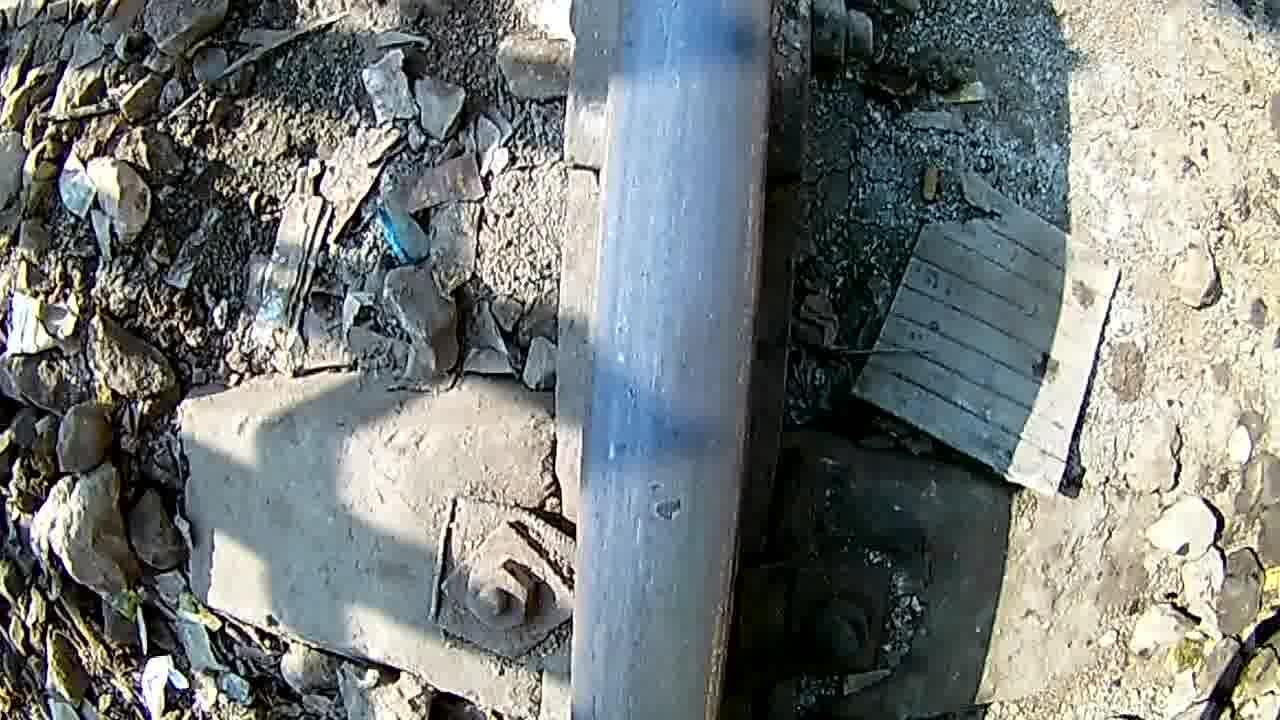crack: (600, 396, 741, 607)
